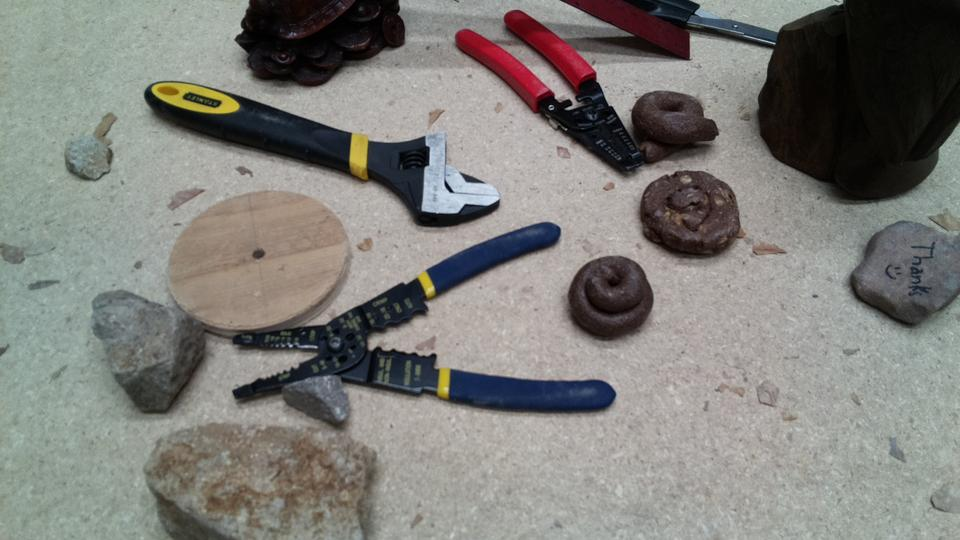poop: (638, 167, 744, 260), (563, 253, 658, 340), (625, 88, 721, 162)
